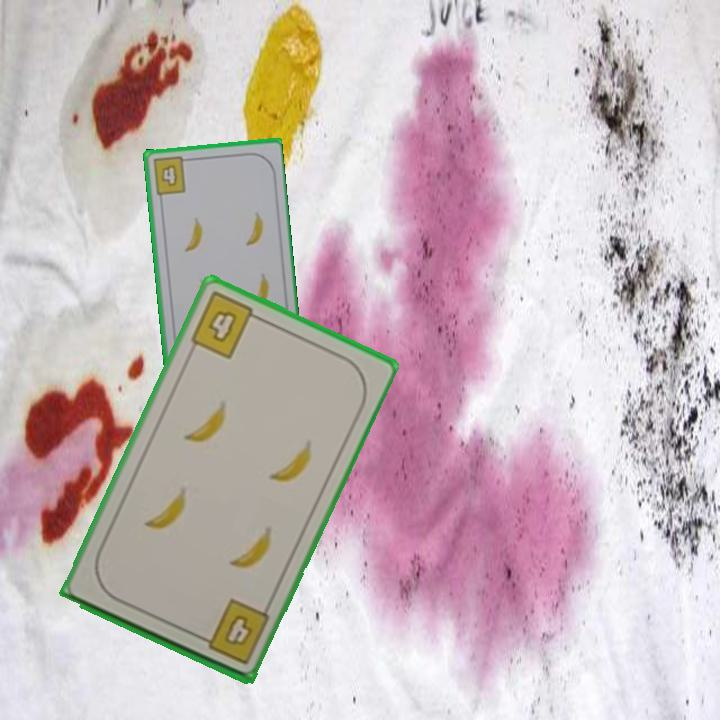4b: (186, 287, 265, 362), (193, 595, 273, 667), (149, 153, 192, 198)
